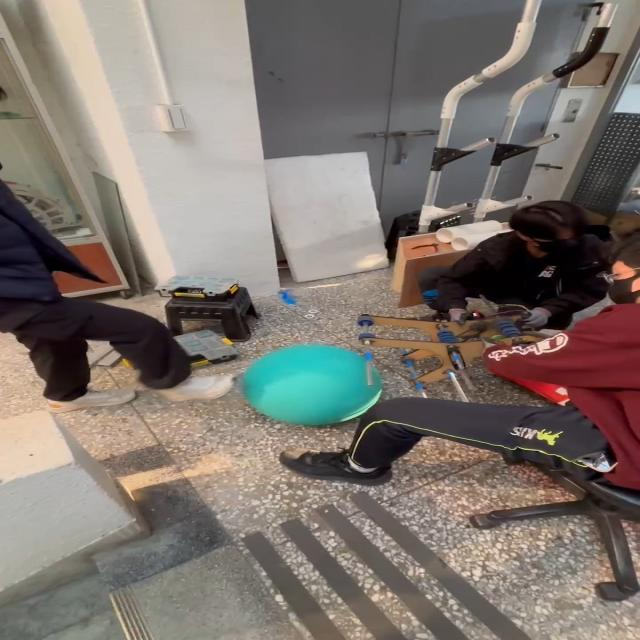ALGAE: (239, 344, 384, 426)
